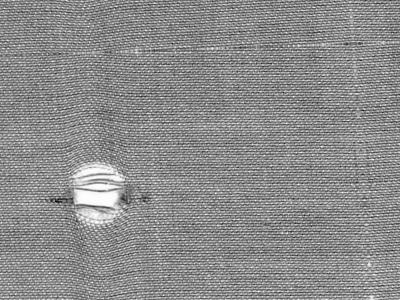hole: (68, 155, 133, 232)
